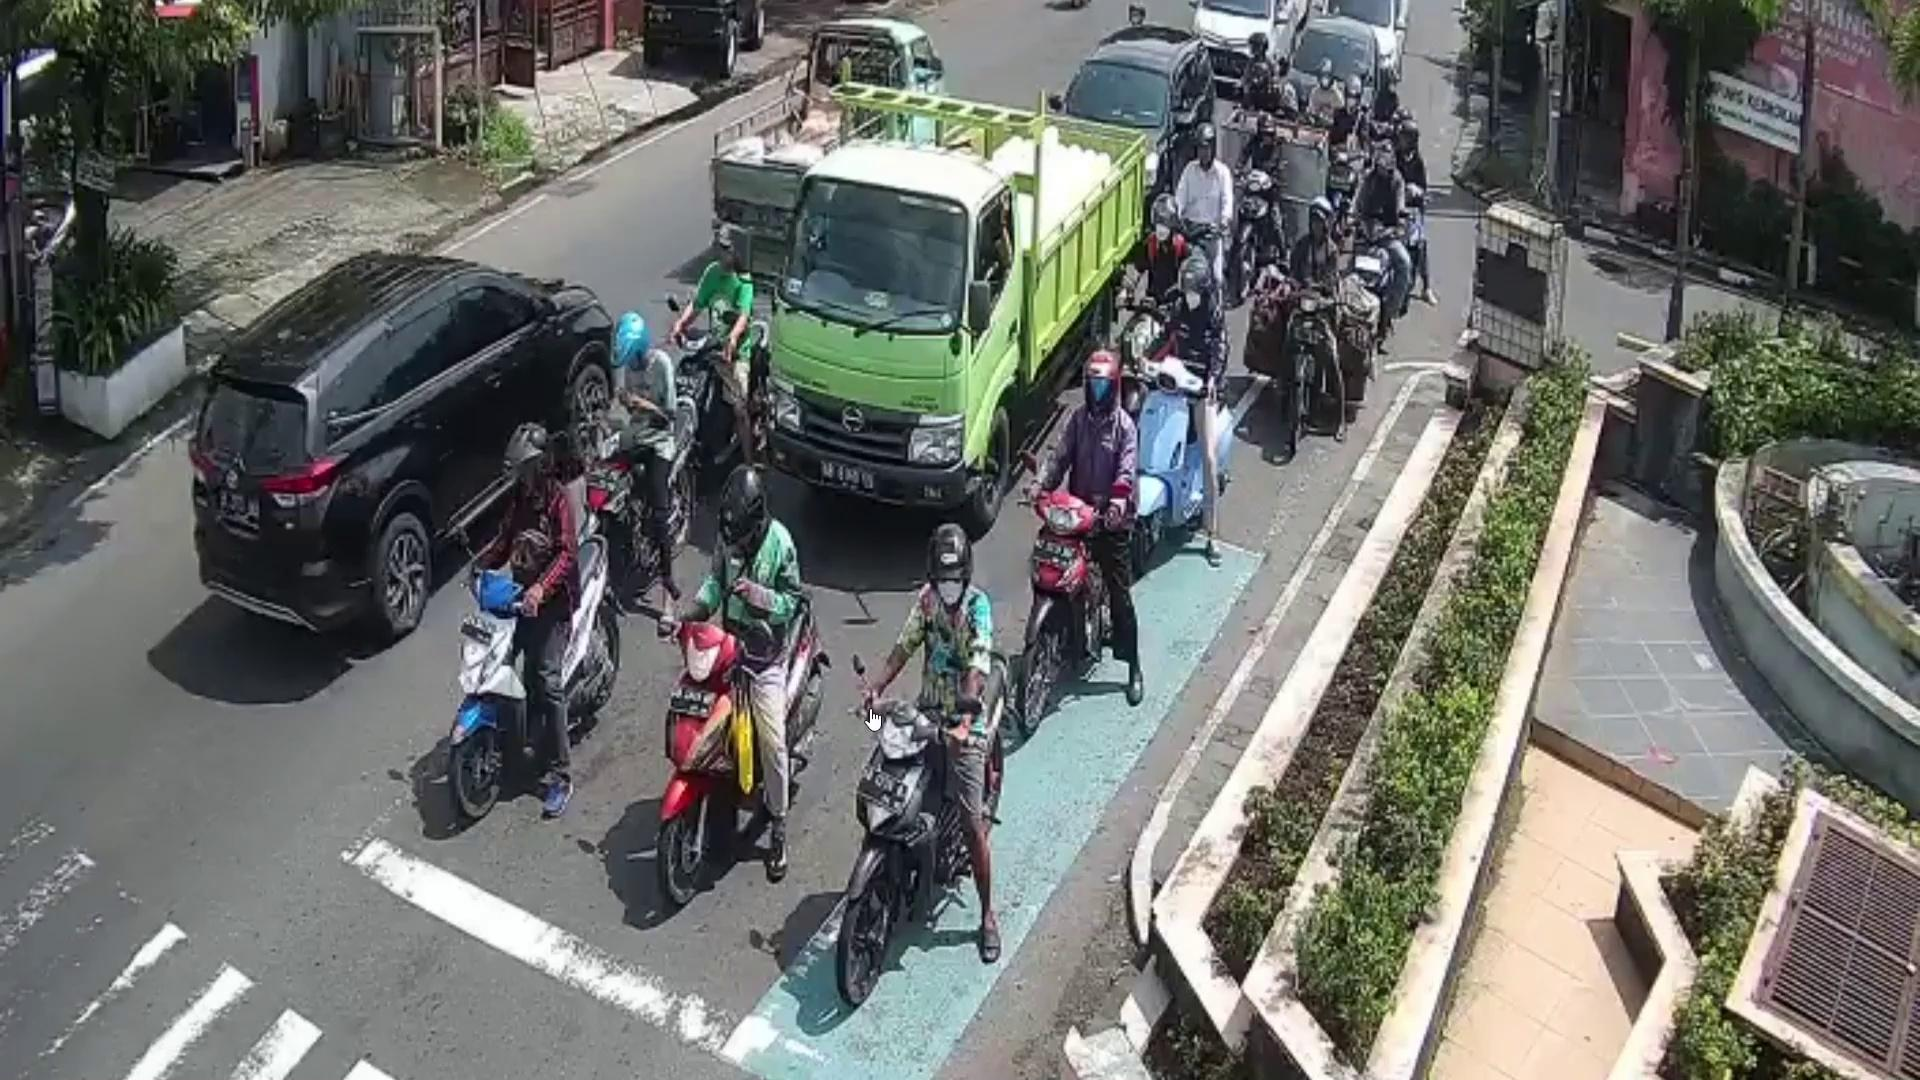car: (191, 251, 616, 646), (709, 18, 951, 264), (1059, 26, 1218, 210), (1280, 18, 1382, 165), (1196, 0, 1311, 94)
motorbike: (837, 646, 1015, 1005), (662, 588, 828, 907), (446, 529, 622, 823), (1010, 447, 1129, 744), (1116, 353, 1238, 572), (568, 396, 700, 580), (666, 297, 769, 468), (1266, 285, 1350, 456), (1230, 162, 1288, 298), (1350, 204, 1406, 328)
truck: (764, 59, 1149, 537)
